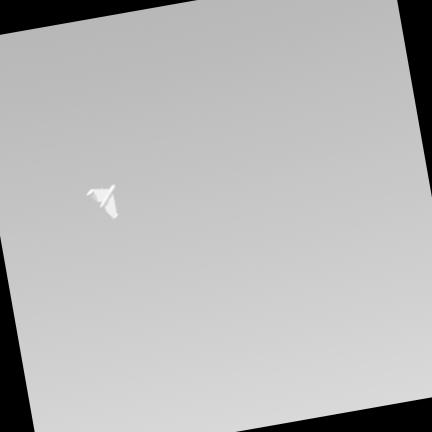Shahed: (87, 185, 118, 218)
